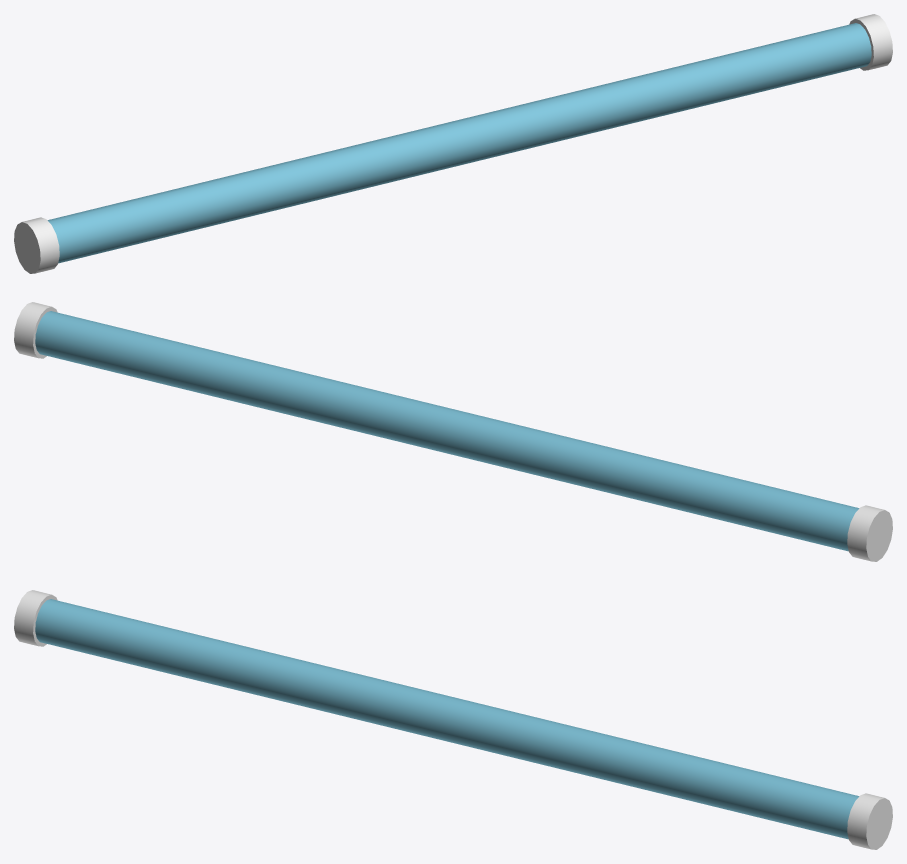
Rendered from Roller blinds 1.fbx.
The picture shows the model from 3 angles, top to bottom: view 1: azimuth 30°, elevation 25°; view 2: azimuth 150°, elevation 25°; view 3: azimuth 330°, elevation 25°; orthographic projection.
Parts seen in each view (by area): view 1: Roller blinds 1; view 2: Roller blinds 1; view 3: Roller blinds 1.
Part boxes in pixels (bbox=[...]): Roller blinds 1: bbox=[14, 14, 892, 273]; Roller blinds 1: bbox=[14, 302, 892, 561]; Roller blinds 1: bbox=[14, 590, 892, 849].
Bounding box in the file's own units: 564 × 30.39 × 30.55.
